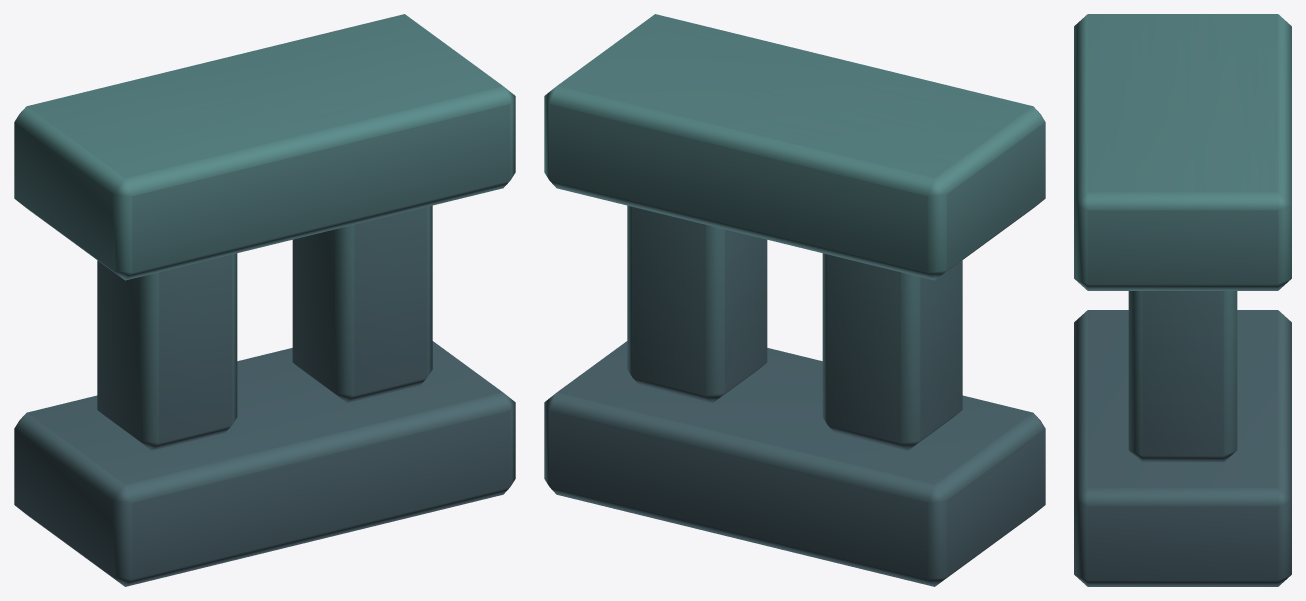
File: fence_01_hue_1.fbx
3 views of the same model, side by side, from view 1: azimuth 30°, elevation 25°; view 2: azimuth 150°, elevation 25°; view 3: azimuth 270°, elevation 25° (orthographic). The views are drawn at different scales.
Visible parts, largest first — view 1: fence_01_hue_1; view 2: fence_01_hue_1; view 3: fence_01_hue_1.
Part boxes in pixels (bbox=[...]): fence_01_hue_1: bbox=[14, 14, 515, 586]; fence_01_hue_1: bbox=[544, 14, 1045, 586]; fence_01_hue_1: bbox=[1074, 14, 1291, 586].
Bounding box in the file's own units: 103 × 100 × 50.
